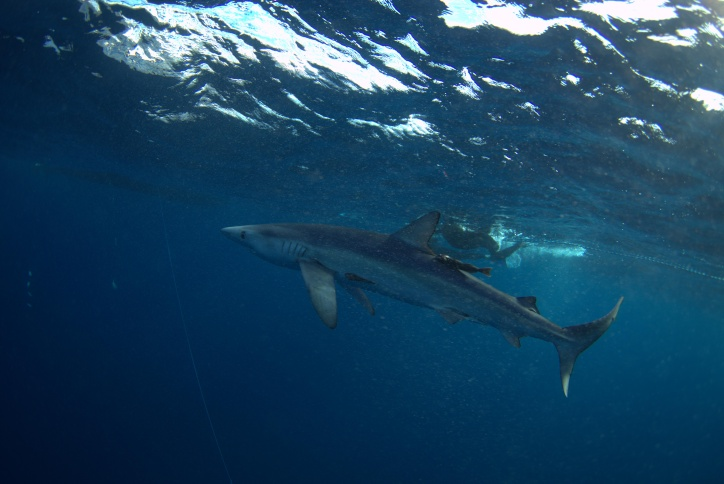Azul: (151, 169, 642, 409)
